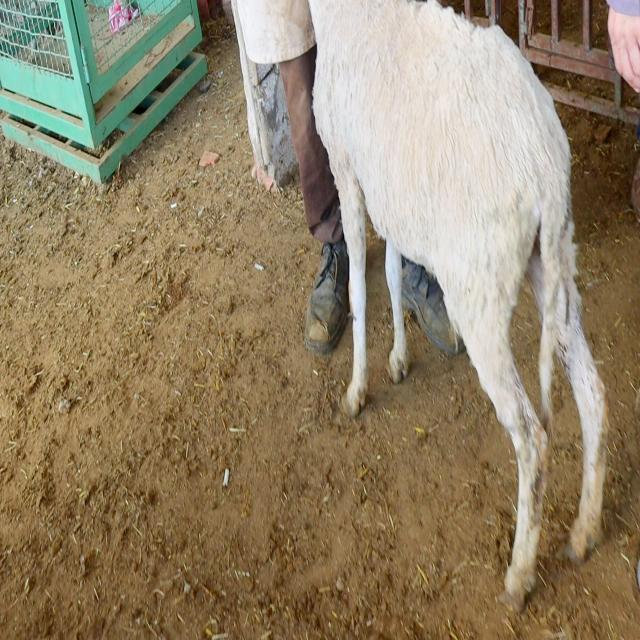Score_1: (310, 0, 608, 609)
